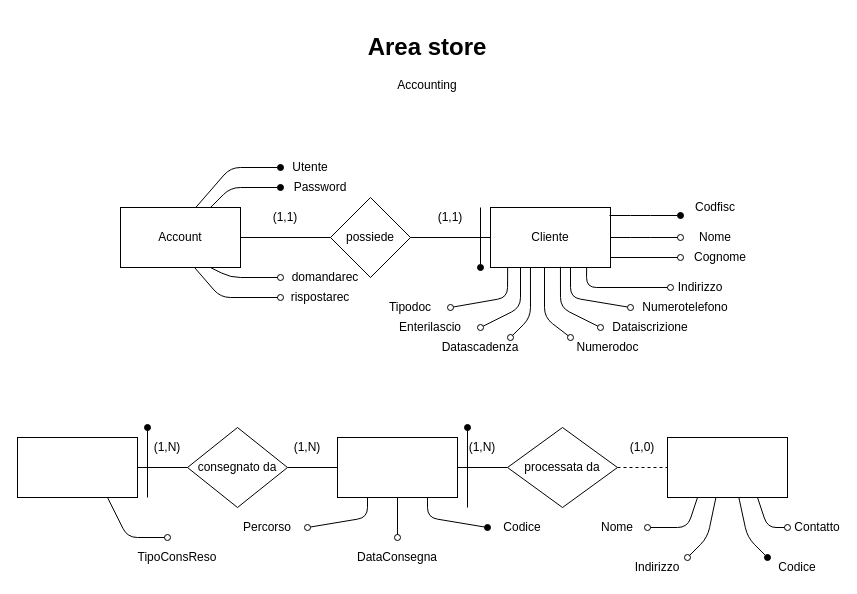
The diagram is 857 pixels wide and 594 high, and some of its shapes have lost their labels. Each missing label, with the centre of its shape:
Centri Smistamento: pixel 727 467
Ordine Prodotti: pixel 77 467
Spedizione: pixel 397 467
